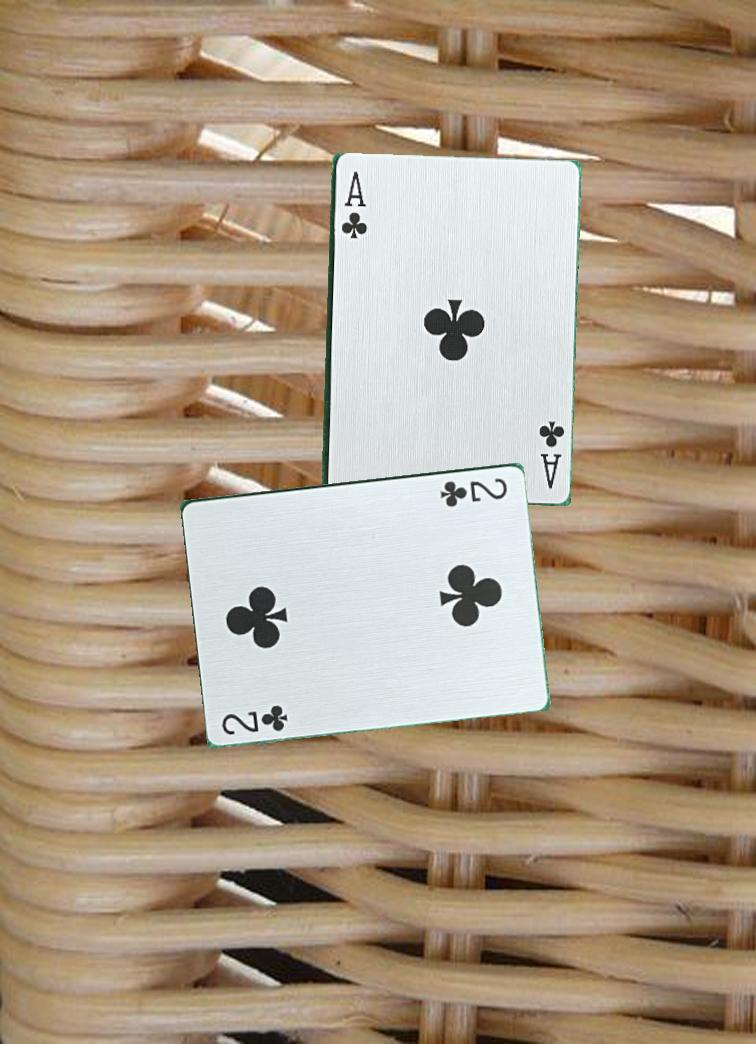2c: (218, 702, 292, 738), (437, 474, 511, 507)
ac: (534, 417, 567, 491), (337, 167, 367, 242)
